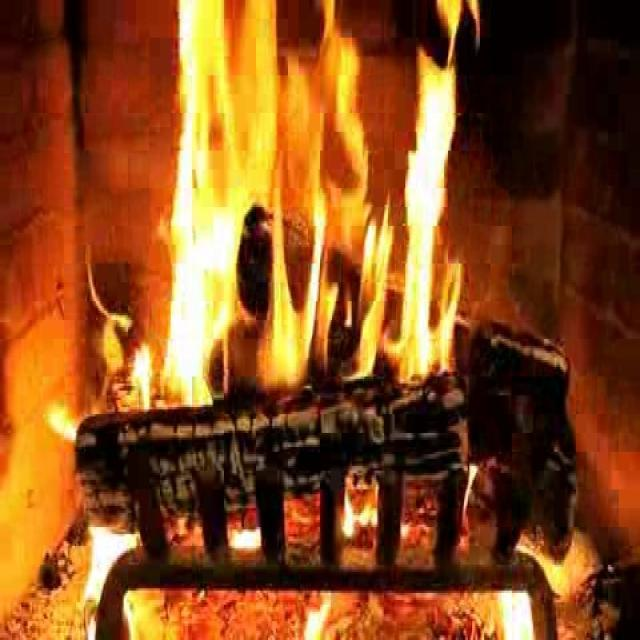Fire: (111, 0, 554, 411)
